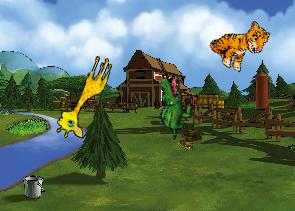crocodile: (144, 71, 203, 140)
giraffe: (52, 49, 115, 143)
tiger: (205, 8, 273, 78)
